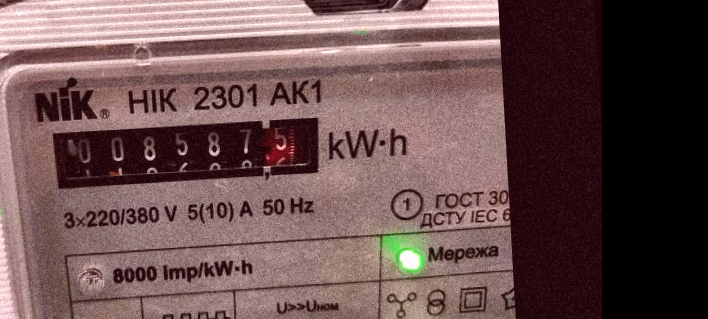0: (74, 134, 93, 164), (108, 133, 127, 162)
5: (272, 123, 291, 153), (172, 128, 191, 157)
7: (236, 124, 255, 155)
8: (204, 127, 223, 158), (140, 132, 158, 161)
screen: (33, 100, 339, 200)
